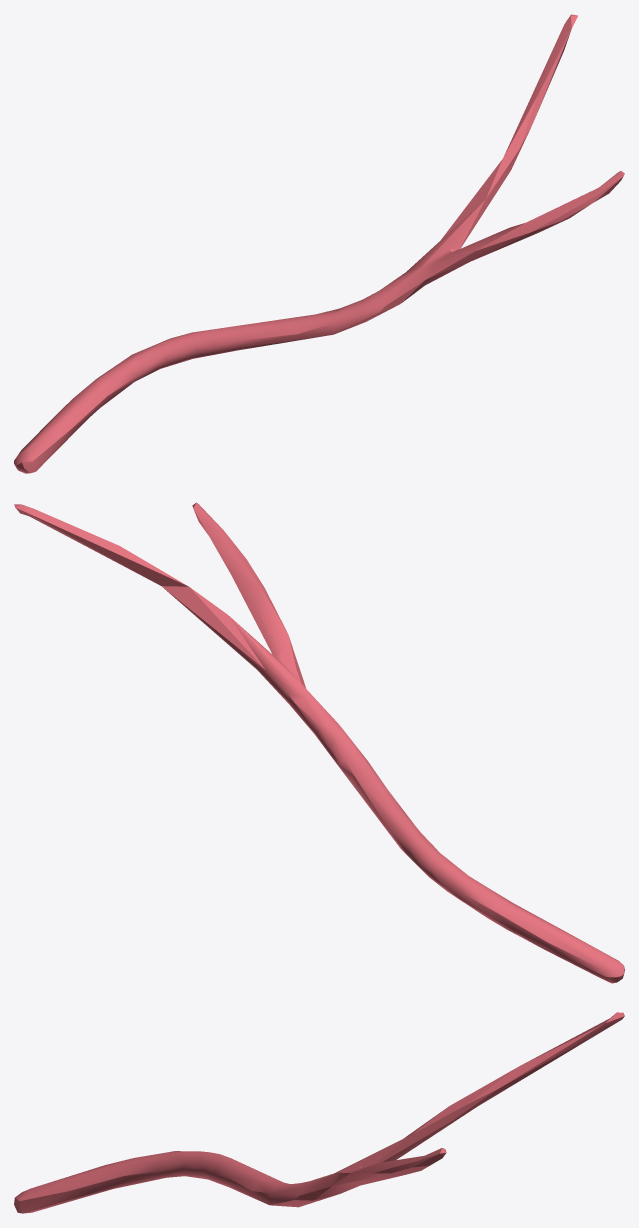
Rendered from fma52452_fj4700.glb.
The picture shows the model from 3 angles, top to bottom: view 1: azimuth 30°, elevation 25°; view 2: azimuth 150°, elevation 25°; view 3: azimuth 330°, elevation 25°; orthographic projection. The views are drawn at different scales.
Visible parts, largest first — view 1: FMA52452_FJ4700; view 2: FMA52452_FJ4700; view 3: FMA52452_FJ4700.
Boxes of the visible parts, bbox=[...] form: FMA52452_FJ4700: bbox=[14, 14, 624, 473]; FMA52452_FJ4700: bbox=[14, 502, 624, 983]; FMA52452_FJ4700: bbox=[14, 1012, 624, 1213].
Bounding box in the file's own units: 0.022 × 0.0118 × 0.00837.
